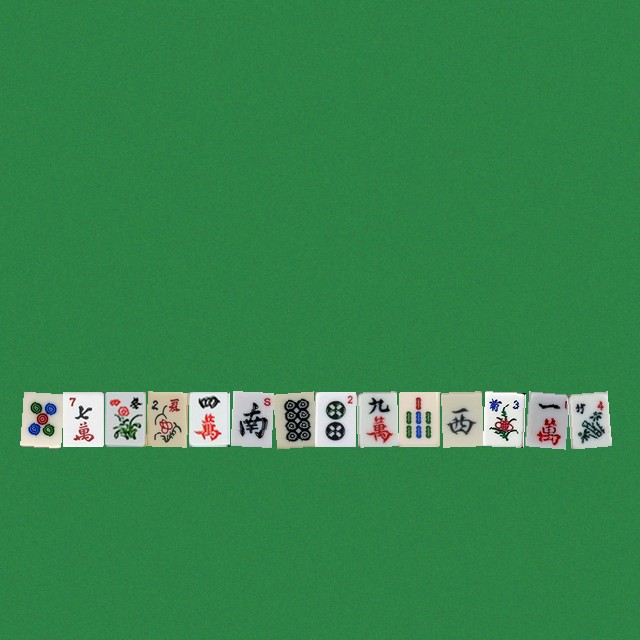tile: (20, 391, 61, 446), (62, 391, 103, 446), (104, 391, 145, 446), (146, 391, 187, 446), (188, 391, 229, 446), (230, 391, 271, 446), (272, 391, 313, 446), (314, 391, 355, 446), (356, 391, 397, 446), (398, 391, 439, 446), (440, 391, 481, 446), (482, 391, 523, 446), (524, 391, 565, 446), (566, 391, 607, 446)
